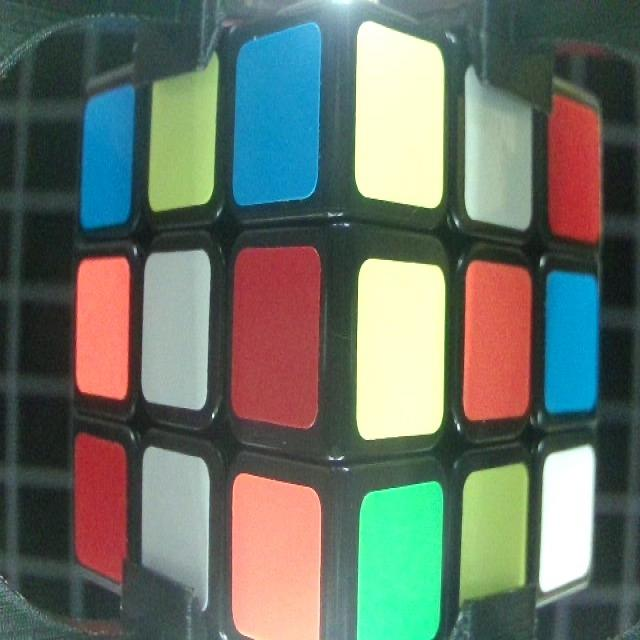b: (236, 43, 317, 201), (549, 276, 597, 408), (84, 97, 129, 226)
g: (358, 492, 440, 640)
o: (231, 475, 318, 640), (467, 262, 528, 418), (78, 262, 129, 397)
r: (235, 248, 320, 426), (73, 436, 127, 576), (551, 100, 599, 232)
w: (141, 449, 208, 613), (465, 66, 534, 218), (146, 253, 209, 402), (542, 457, 594, 583)
y: (356, 30, 442, 201), (359, 259, 442, 431), (154, 64, 214, 200), (464, 473, 524, 609)
